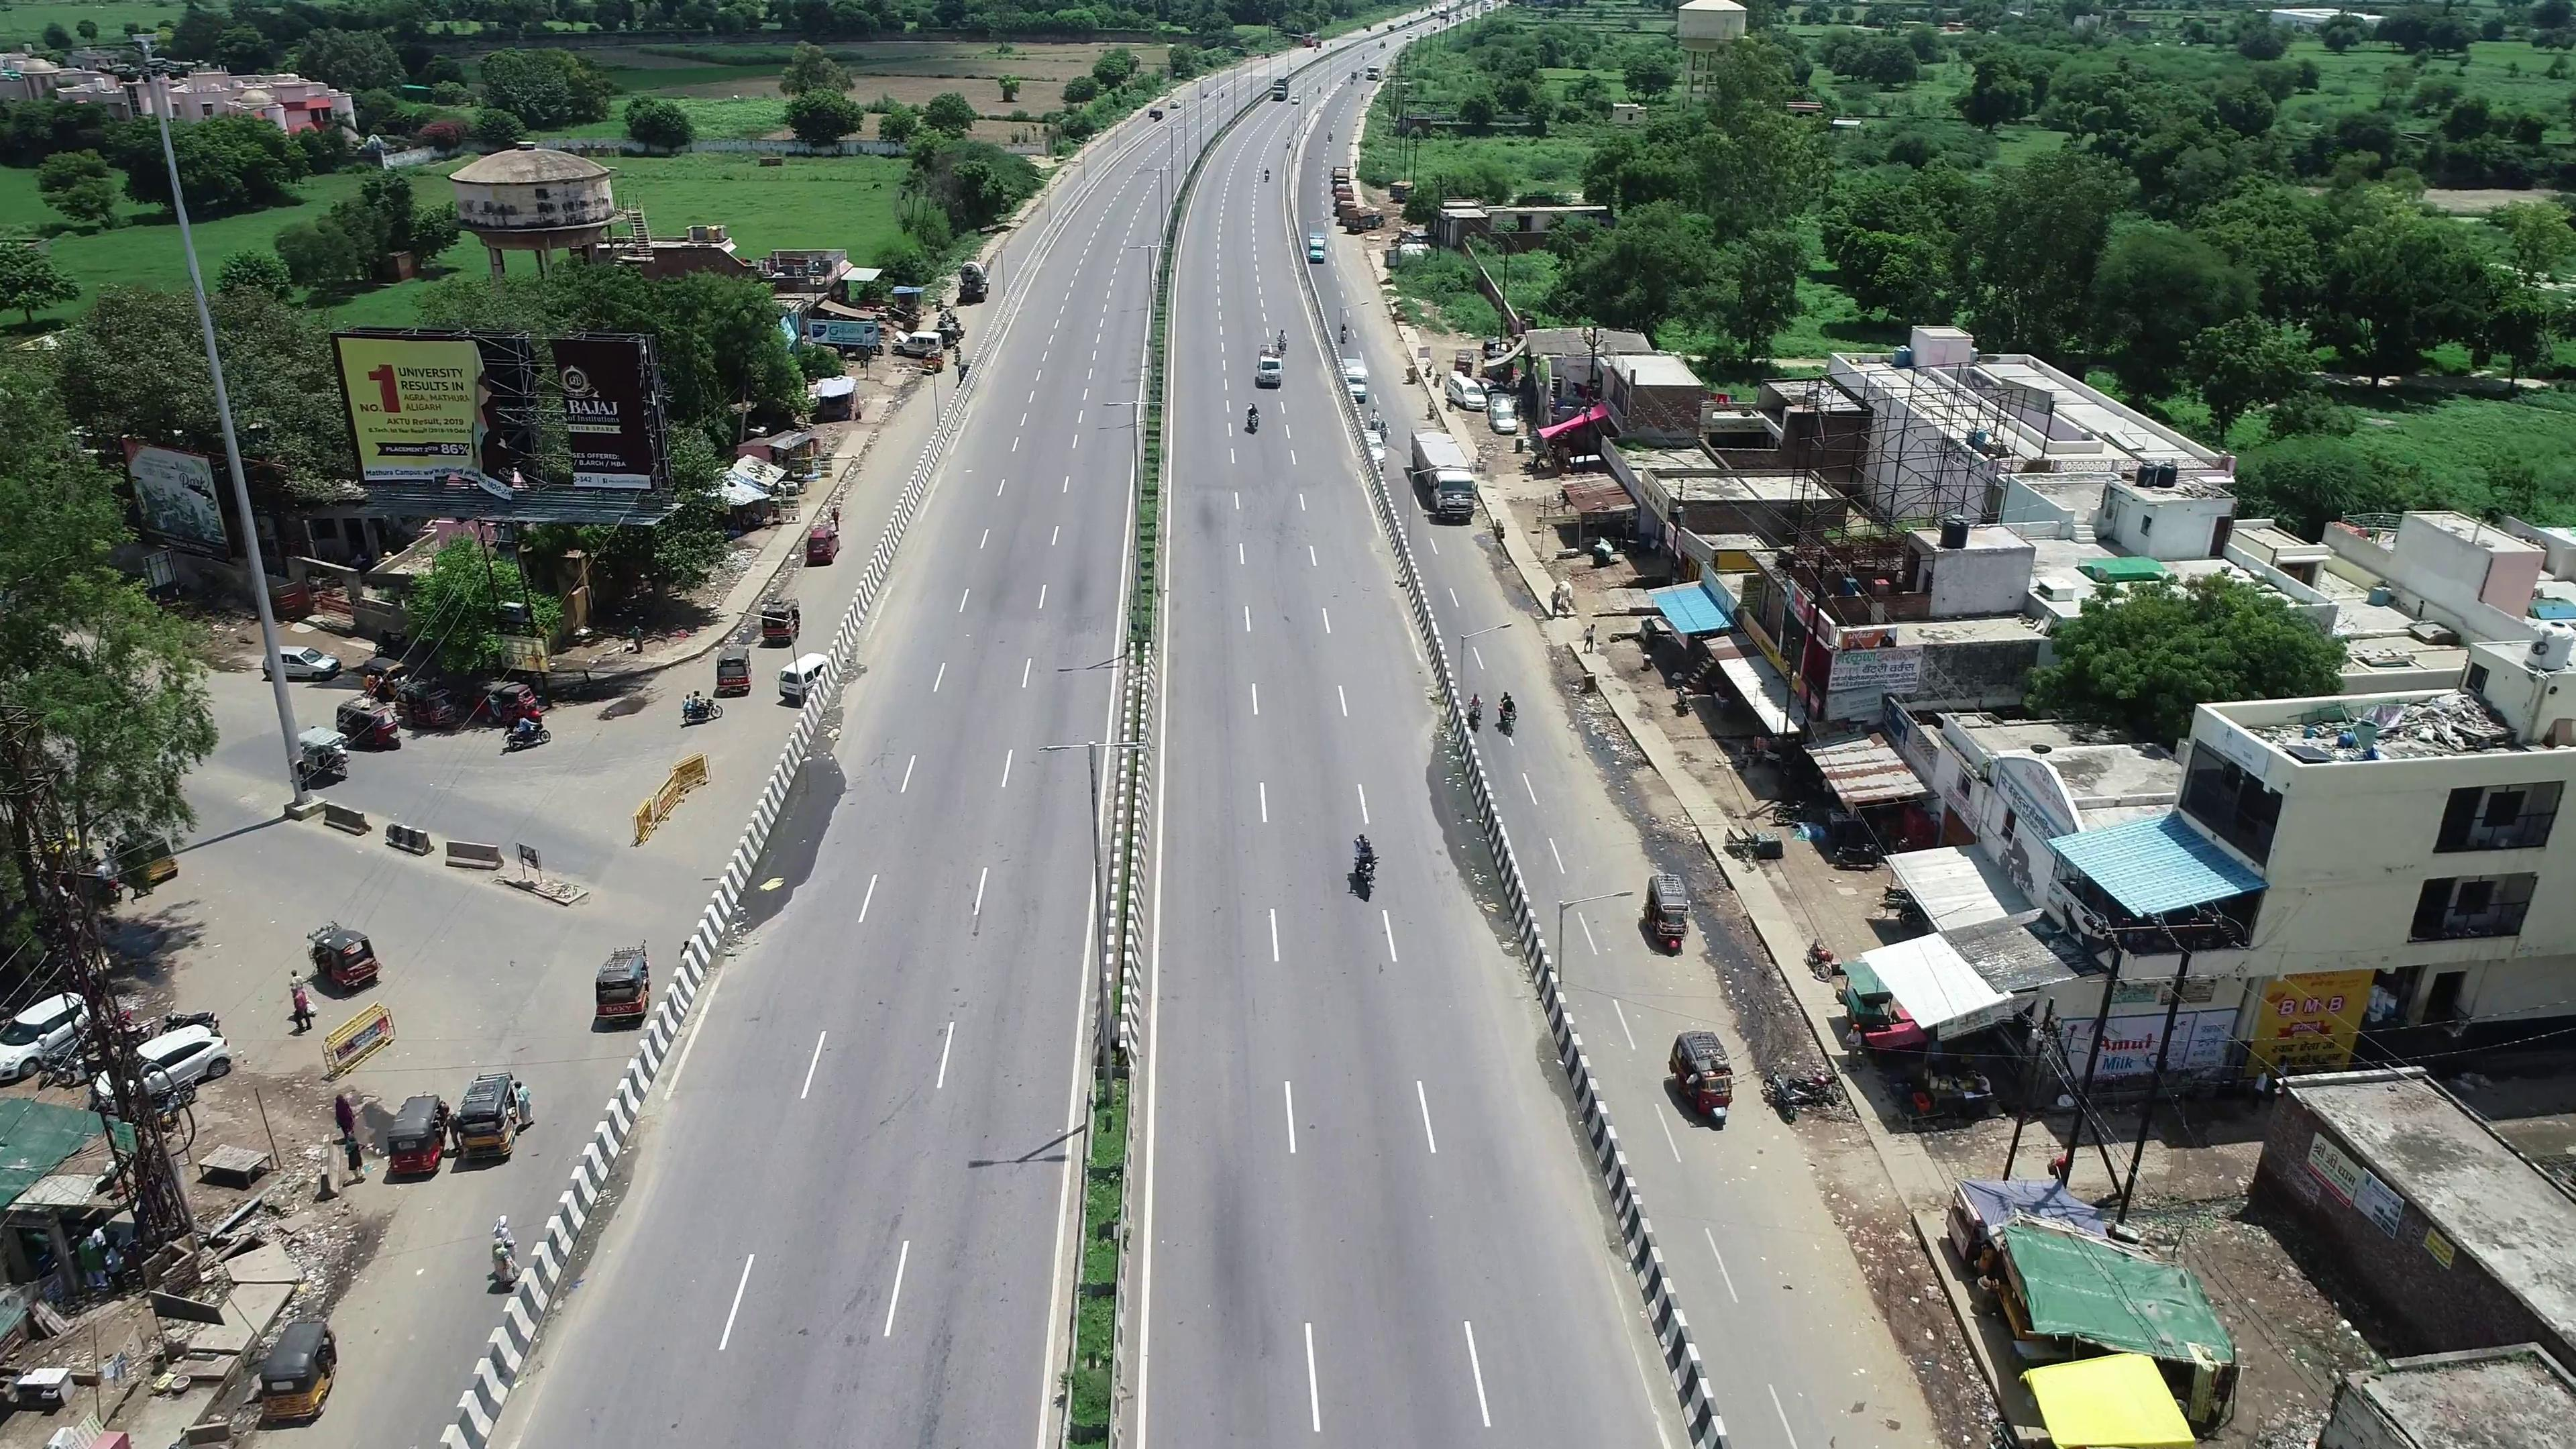Waterlogging: (743, 770, 835, 941)
